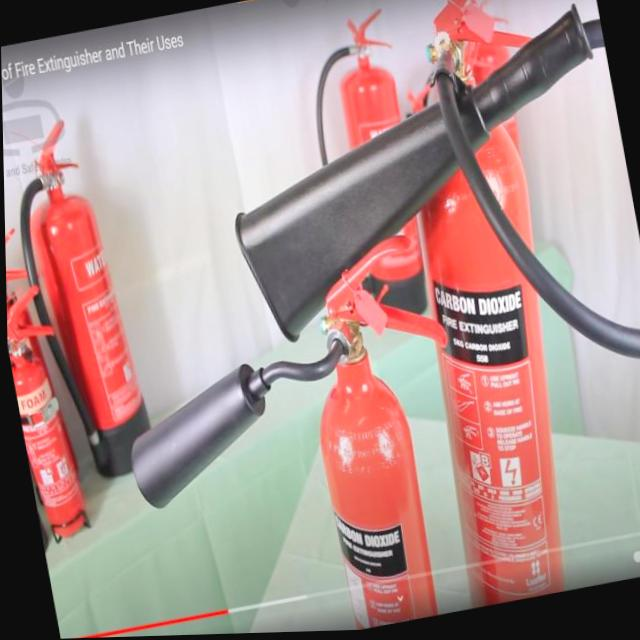FireExtinguisher: (190, 0, 640, 636), (92, 226, 495, 638), (2, 95, 174, 495), (286, 0, 447, 340), (5, 278, 94, 554)
